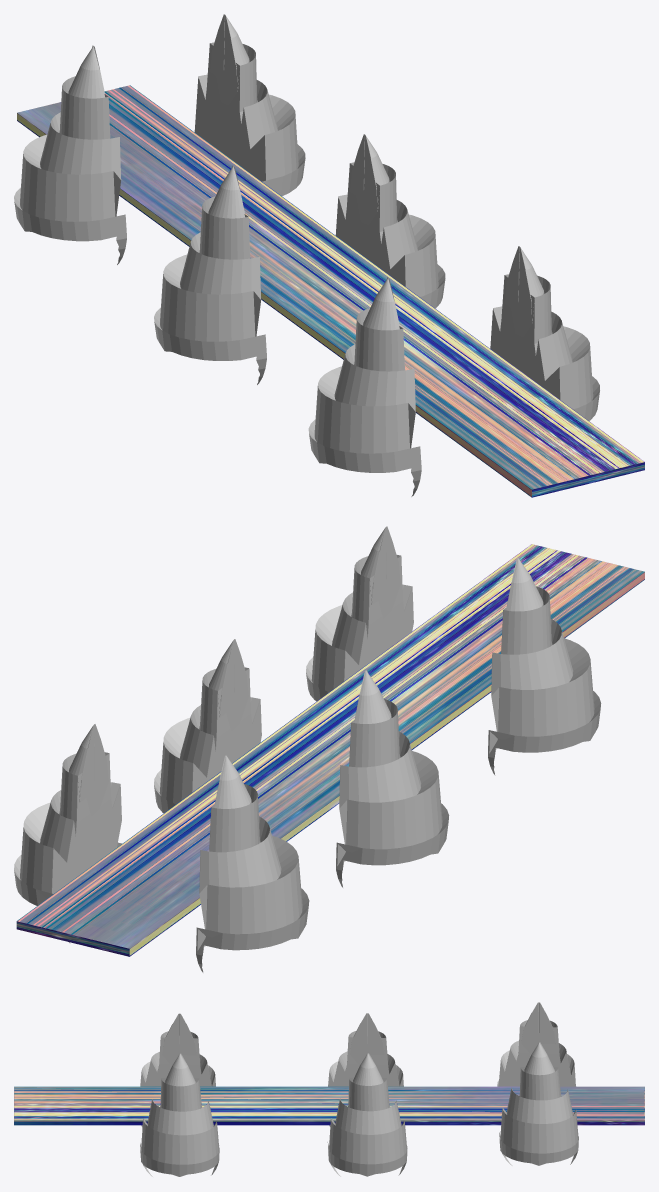
The model's file is bridge2.obj.
3 views of the same model, one above another, from view 1: azimuth 30°, elevation 25°; view 2: azimuth 150°, elevation 25°; view 3: azimuth 270°, elevation 25° (orthographic). The views are drawn at different scales.
Parts seen in each view (by area): view 1: Bridge_road_Cube_Cube.001_Cube_Cube.001_bridge, Pillar_5_Cube.001_Cube.005_Cube.001_Cube.005_None, Pillar_1_Cube.001_Cube.000, Pillar3_Cube.004_Cube.009_Cube.004_Cube.009_None, Pillar_2_Cube.002_Cube.000, Pillar_6_Cube.002_Cube.007, Pillar_4_Cube.003_Cube.008_Cube.003_Cube.008_None; view 2: Bridge_road_Cube_Cube.001_Cube_Cube.001_bridge, Pillar_1_Cube.001_Cube.000, Pillar3_Cube.004_Cube.009_Cube.004_Cube.009_None, Pillar_5_Cube.001_Cube.005_Cube.001_Cube.005_None, Pillar_2_Cube.002_Cube.000, Pillar_6_Cube.002_Cube.007, Pillar_4_Cube.003_Cube.008_Cube.003_Cube.008_None; view 3: Bridge_road_Cube_Cube.001_Cube_Cube.001_bridge, Pillar_4_Cube.003_Cube.008_Cube.003_Cube.008_None, Pillar_6_Cube.002_Cube.007, Pillar_2_Cube.002_Cube.000, Pillar_1_Cube.001_Cube.000, Pillar3_Cube.004_Cube.009_Cube.004_Cube.009_None, Pillar_5_Cube.001_Cube.005_Cube.001_Cube.005_None.
Boxes of the visible parts, x1,y1,x2,y2 form: Bridge_road_Cube_Cube.001_Cube_Cube.001_bridge: [17, 85, 644, 497]; Pillar_5_Cube.001_Cube.005_Cube.001_Cube.005_None: [308, 277, 421, 496]; Pillar_1_Cube.001_Cube.000: [14, 45, 126, 264]; Pillar3_Cube.004_Cube.009_Cube.004_Cube.009_None: [154, 165, 266, 384]; Pillar_2_Cube.002_Cube.000: [194, 14, 305, 196]; Pillar_6_Cube.002_Cube.007: [490, 246, 599, 420]; Pillar_4_Cube.003_Cube.008_Cube.003_Cube.008_None: [335, 134, 445, 308]; Bridge_road_Cube_Cube.001_Cube_Cube.001_bridge: [16, 544, 644, 956]; Pillar_1_Cube.001_Cube.000: [196, 755, 309, 972]; Pillar3_Cube.004_Cube.009_Cube.004_Cube.009_None: [336, 670, 449, 887]; Pillar_5_Cube.001_Cube.005_Cube.001_Cube.005_None: [488, 557, 601, 775]; Pillar_2_Cube.002_Cube.000: [14, 724, 121, 943]; Pillar_6_Cube.002_Cube.007: [306, 526, 413, 701]; Pillar_4_Cube.003_Cube.008_Cube.003_Cube.008_None: [154, 639, 261, 813]; Bridge_road_Cube_Cube.001_Cube_Cube.001_bridge: [14, 1086, 644, 1125]; Pillar_4_Cube.003_Cube.008_Cube.003_Cube.008_None: [327, 1053, 407, 1176]; Pillar_6_Cube.002_Cube.007: [140, 1053, 219, 1176]; Pillar_2_Cube.002_Cube.000: [499, 1042, 578, 1165]; Pillar_1_Cube.001_Cube.000: [497, 1002, 575, 1086]; Pillar3_Cube.004_Cube.009_Cube.004_Cube.009_None: [328, 1013, 403, 1126]; Pillar_5_Cube.001_Cube.005_Cube.001_Cube.005_None: [140, 1013, 215, 1127].
Size of the model in its own units: 4.91 by 3.75 by 15.78.
